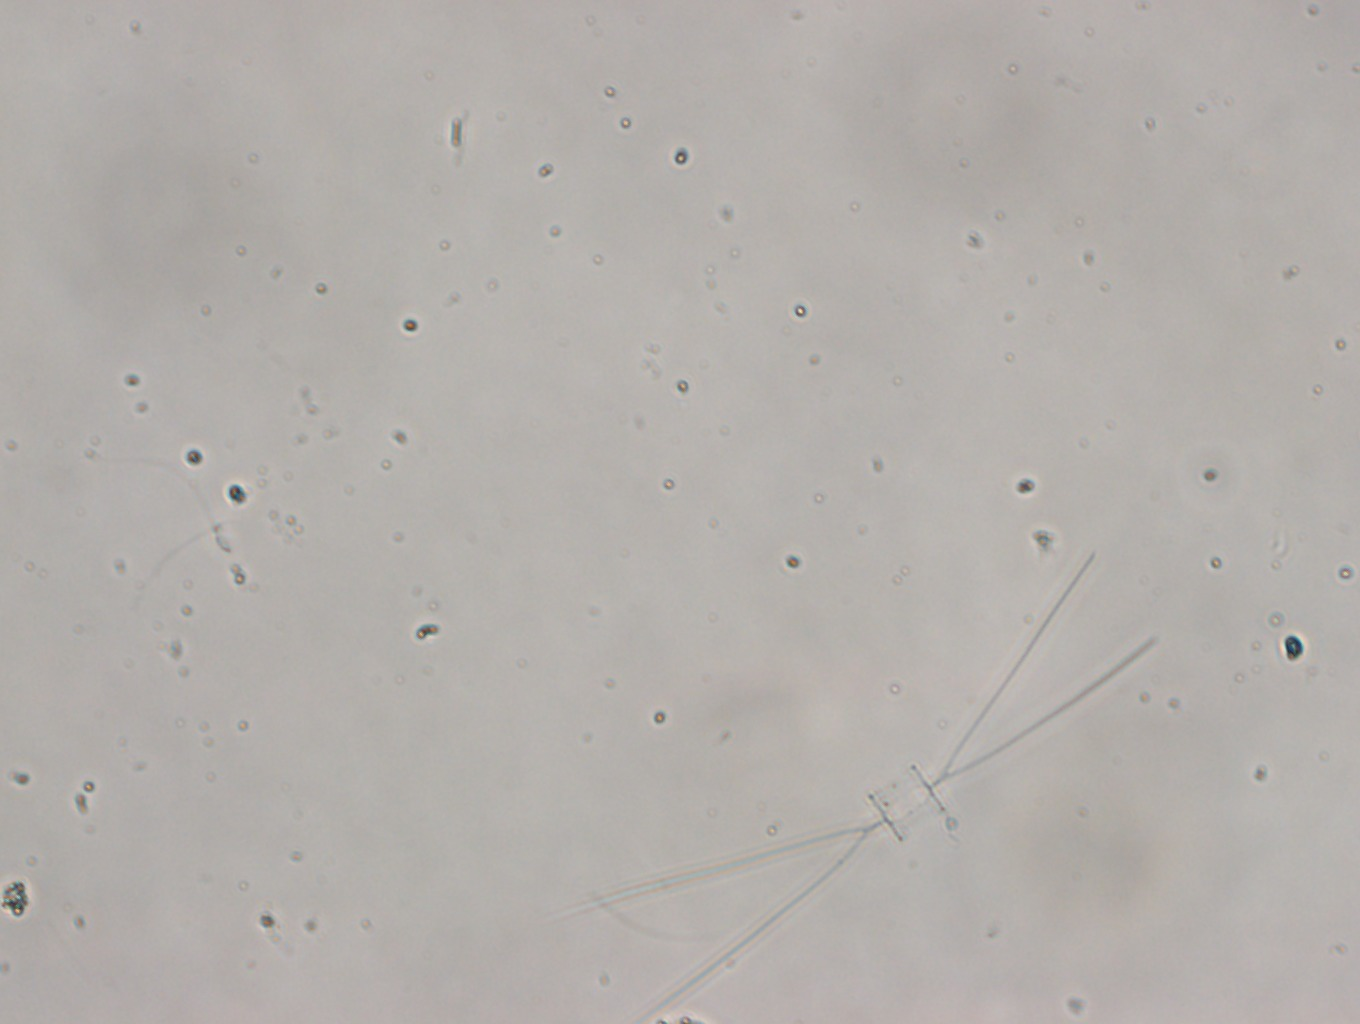chaetoceros: (555, 547, 1160, 1021)
